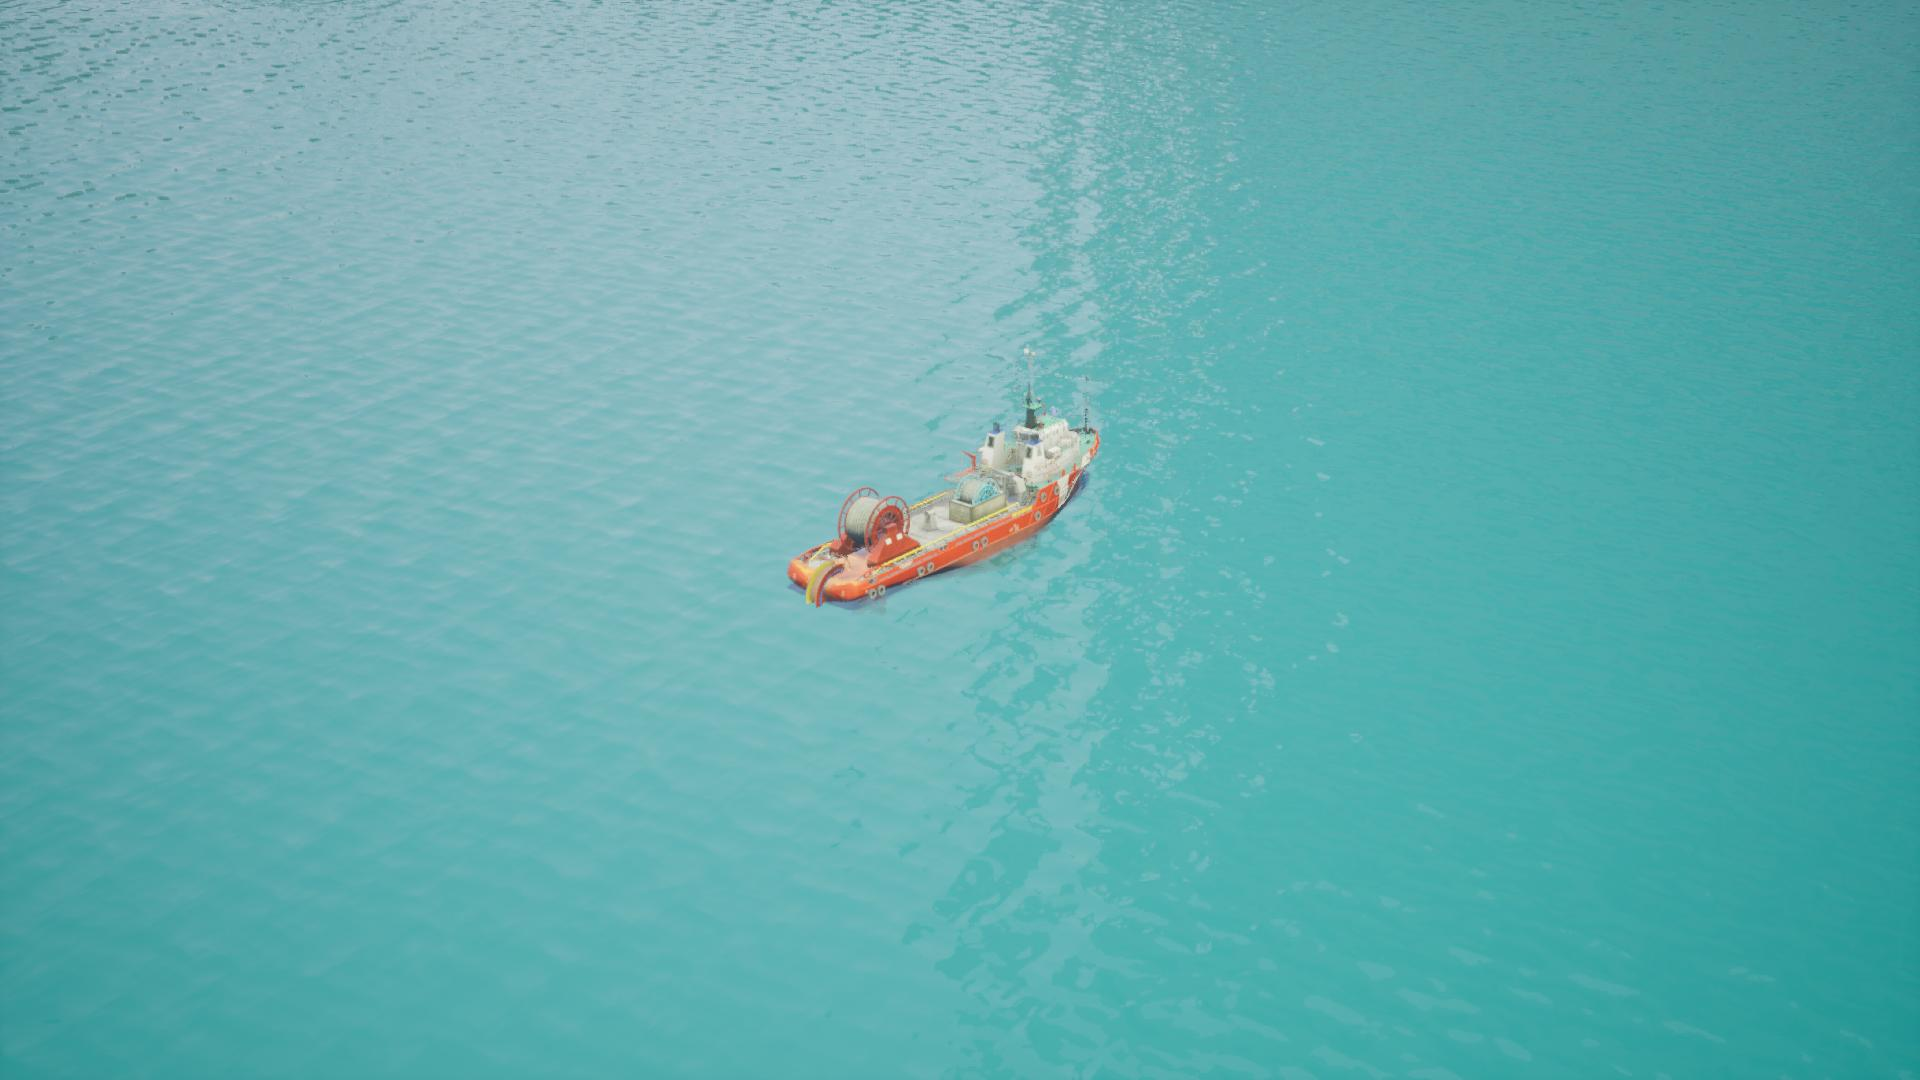Tug Boat: (825, 386, 1102, 608)
